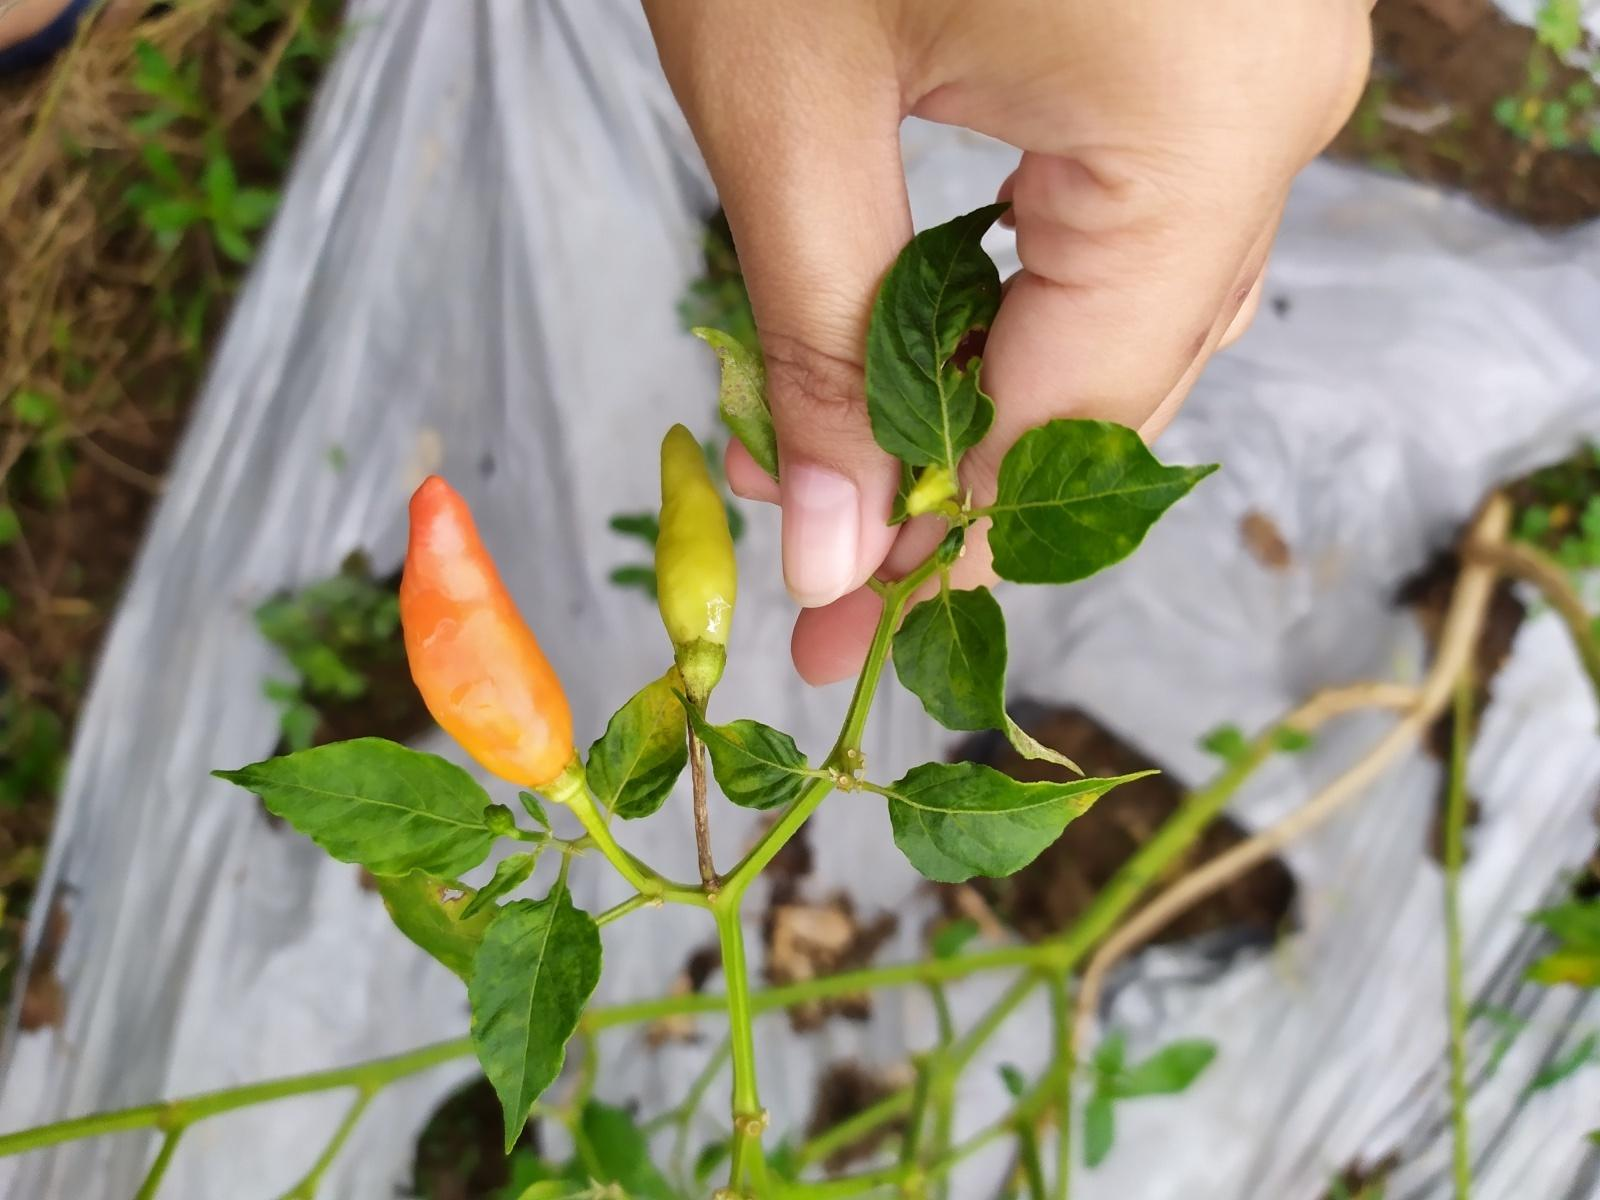cabai_normal: (398, 472, 575, 791), (653, 423, 738, 664)
